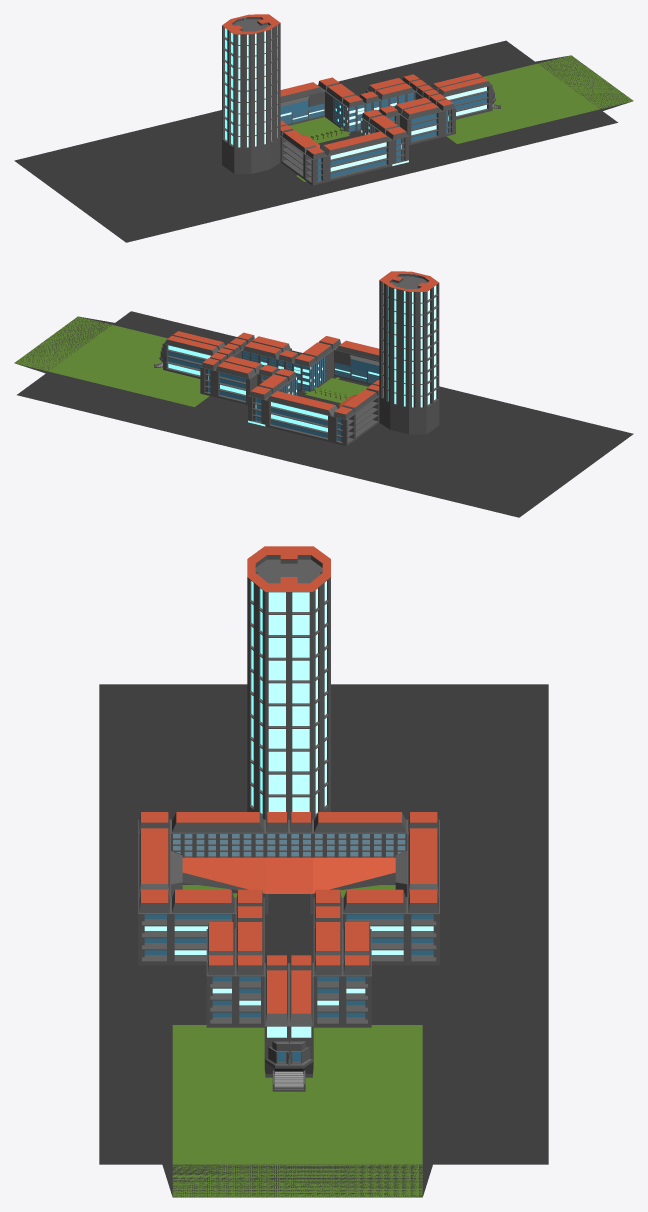
File: textureekle-yedek.glb
The picture shows the model from 3 angles, top to bottom: view 1: azimuth 30°, elevation 25°; view 2: azimuth 150°, elevation 25°; view 3: azimuth 270°, elevation 25°; orthographic projection. The views are drawn at different scales.
Visible parts, largest first — view 1: Plane, Cube.017; view 2: Plane, Cube.017; view 3: Plane, Cube.017.
Part boxes in pixels (x1,y1,x2,y2): Plane: (14,40,633,242); Cube.017: (222,14,500,185); Plane: (14,311,633,517); Cube.017: (154,271,439,446); Plane: (99,684,548,1197); Cube.017: (138,546,439,1091).
Size of the model in its own units: 162 by 42.3 by 59.71.
Materials: 2 (1 with a texture image).
